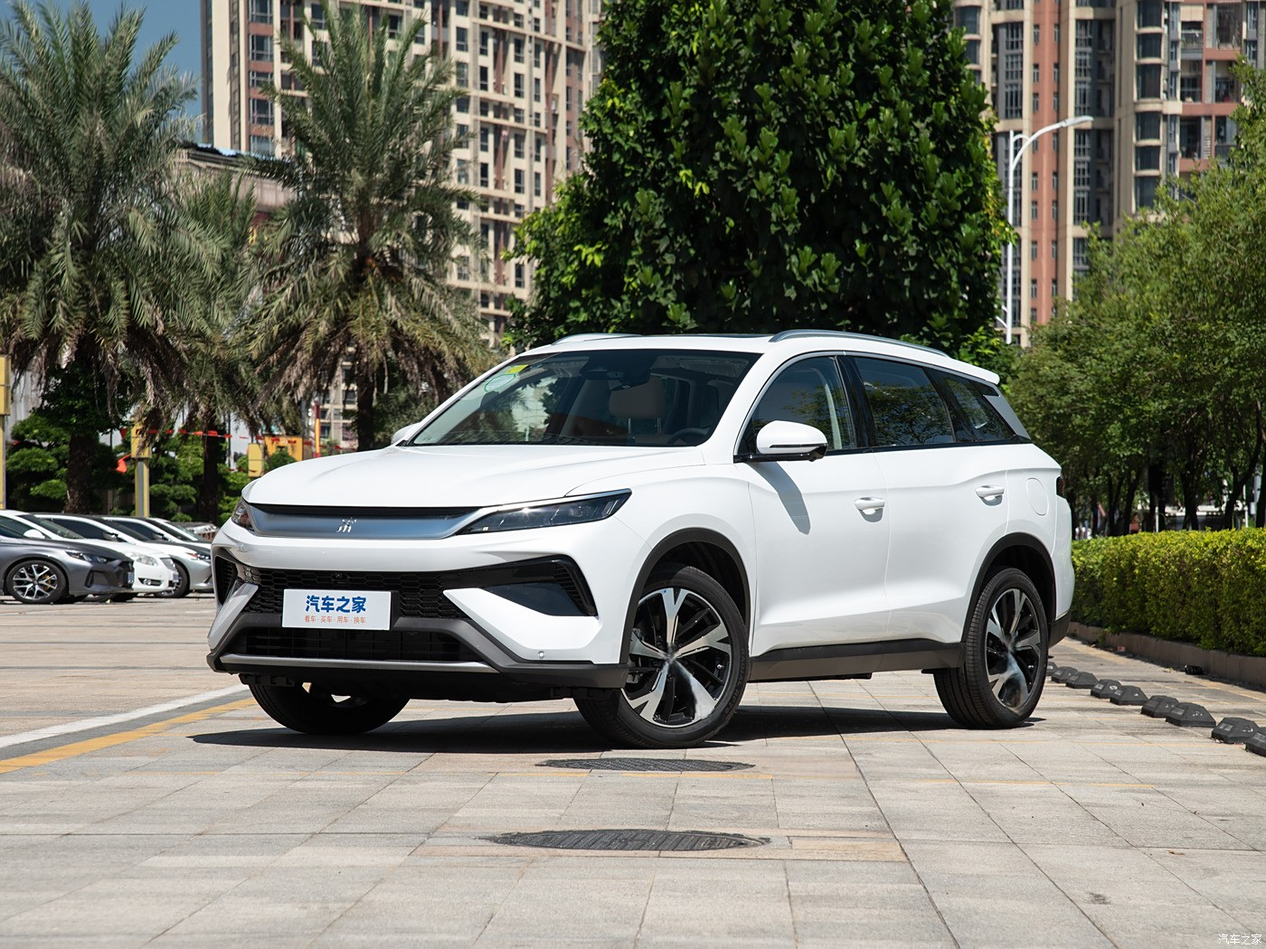BYD Song: (338, 518, 356, 532)
